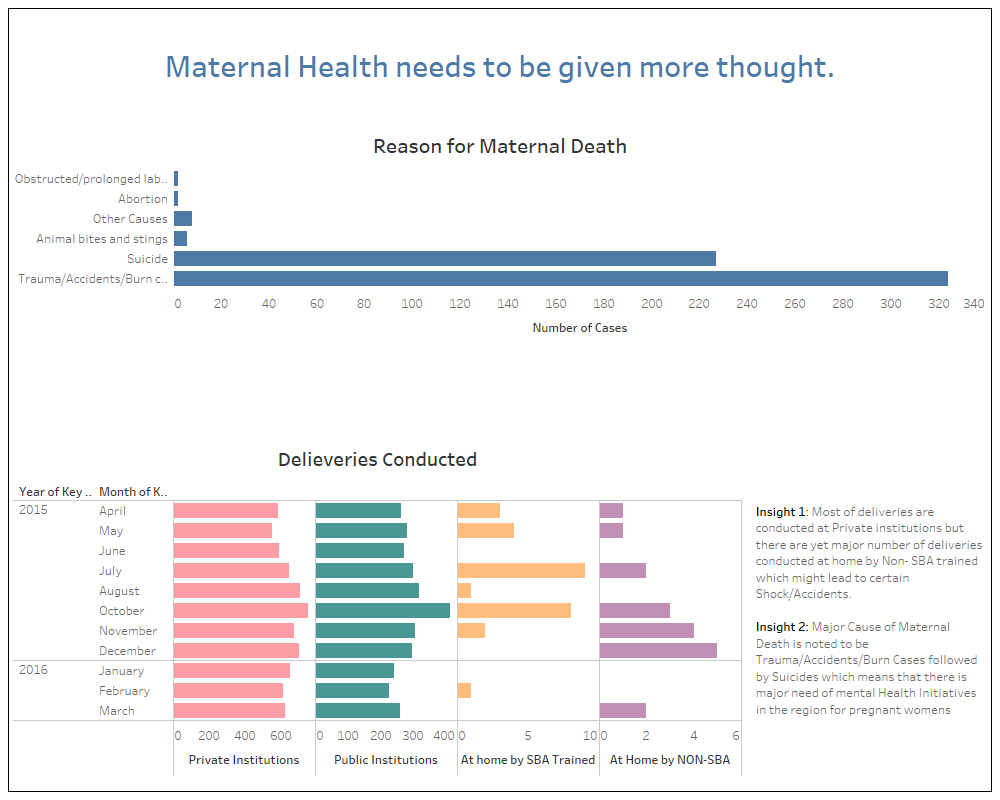

The page's visual inventory and layout, read from the dashboard file:
{"tool":"tableau","page":{"name":"Maternal","canvas":[1000,800],"ordinal":1},"visuals":[{"type":"text","box":[9,9,982,111.7]},{"type":"worksheet","title":"Maternal Death","mark":"Automatic","box":[9,120.7,982,314.7]},{"type":"worksheet","title":"Deliveries","mark":"Bar","rows":["Key_ID","Key_ID"],"cols":["Number of Deliveries  at accredited Private Institutions 2.3","Deliveries conducted at Public Institutions  2.2","SBA Trained (Doctor/Nurse/ANM) 2.1.1.a","Non SBA (Trained TBA/Relatives/etc.) 2.1.1.b"],"box":[9,435.4,740.5,355.6]},{"type":"text","box":[749.5,435.4,241.5,355.6]}]}

Visuals, with their boxes in screenshot pixels (x1, y1, x2, y2), scaled from the page's 1000x800 canvas onto the 1000x800 screenshot:
text: (9, 9, 991, 121)
"Maternal Death" worksheet: (9, 121, 991, 435)
"Deliveries" worksheet (Bar marks): (9, 435, 750, 791)
text: (750, 435, 991, 791)
